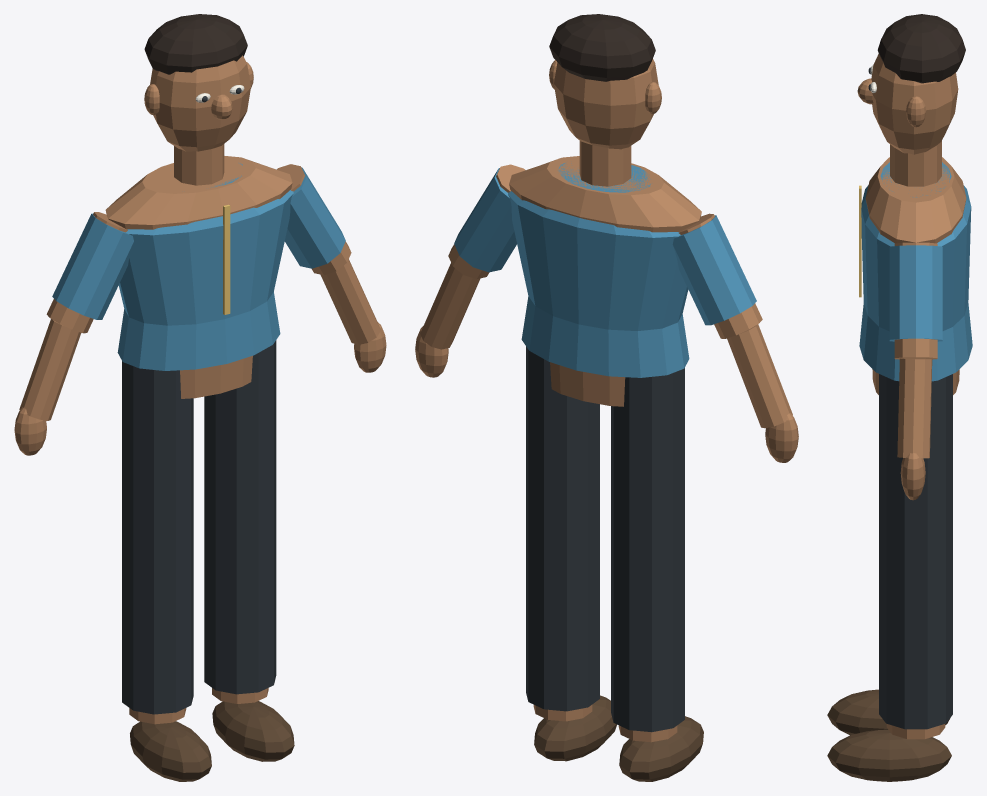
The picture shows the model from 3 angles, left to right: view 1: azimuth 30°, elevation 25°; view 2: azimuth 150°, elevation 25°; view 3: azimuth 270°, elevation 25°; orthographic projection. The views are drawn at different scales.
Parts seen in each view (by area): view 1: trouser_-1, trouser_1, shirt, body_torso, head_original, sleeve_-1, hair_cap, foot_1, foot_-1, sleeve_1, forearm_-1, forearm_1 (+6 smaller); view 2: trouser_-1, shirt, trouser_1, body_torso, head_original, hair_cap, sleeve_-1, sleeve_1, forearm_-1, foot_-1, foot_1, forearm_1 (+5 smaller); view 3: trouser_1, shirt, body_torso, head_original, sleeve_1, foot_1, hair_cap, forearm_1, foot_-1, neck, upper_arm_1, hand_1 (+4 smaller).
Part boxes in pixels (x1=…): trouser_-1: x1=122, y1=361, x2=193, y2=714; trouser_1: x1=204, y1=340, x2=276, y2=694; shirt: x1=117, y1=163, x2=293, y2=370; body_torso: x1=105, y1=156, x2=292, y2=398; head_original: x1=150, y1=55, x2=250, y2=151; sleeve_-1: x1=52, y1=213, x2=133, y2=319; hair_cap: x1=144, y1=14, x2=247, y2=74; foot_1: x1=212, y1=701, x2=294, y2=761; foot_-1: x1=130, y1=721, x2=211, y2=781; sleeve_1: x1=284, y1=167, x2=345, y2=268; forearm_-1: x1=19, y1=319, x2=81, y2=420; forearm_1: x1=320, y1=259, x2=380, y2=344; trouser_-1: x1=611, y1=368, x2=684, y2=732; shirt: x1=508, y1=163, x2=689, y2=377; trouser_1: x1=526, y1=346, x2=599, y2=711; body_torso: x1=509, y1=156, x2=701, y2=406; head_original: x1=554, y1=59, x2=658, y2=149; hair_cap: x1=549, y1=14, x2=655, y2=81; sleeve_-1: x1=672, y1=215, x2=756, y2=325; sleeve_1: x1=454, y1=168, x2=516, y2=272; forearm_-1: x1=727, y1=324, x2=792, y2=428; foot_-1: x1=619, y1=716, x2=703, y2=781; foot_1: x1=534, y1=695, x2=616, y2=761; forearm_1: x1=420, y1=263, x2=480, y2=349; trouser_1: x1=879, y1=374, x2=952, y2=729; shirt: x1=859, y1=162, x2=972, y2=381; body_torso: x1=865, y1=157, x2=966, y2=394; head_original: x1=871, y1=54, x2=958, y2=154; sleeve_1: x1=889, y1=245, x2=942, y2=341; foot_1: x1=827, y1=729, x2=951, y2=781; hair_cap: x1=877, y1=14, x2=965, y2=83; forearm_1: x1=897, y1=358, x2=932, y2=458; foot_-1: x1=827, y1=689, x2=950, y2=735; neck: x1=890, y1=141, x2=941, y2=186; upper_arm_1: x1=894, y1=242, x2=937, y2=359; hand_1: x1=900, y1=453, x2=925, y2=500.
Size of the model in its own units: 0.896 by 1.69 by 0.303.
